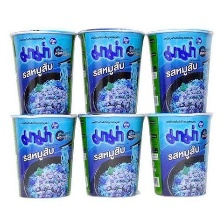paper_cup: (72, 25, 149, 117), (73, 109, 150, 200), (5, 25, 80, 118), (6, 110, 81, 202), (142, 24, 216, 117), (142, 108, 215, 201)
